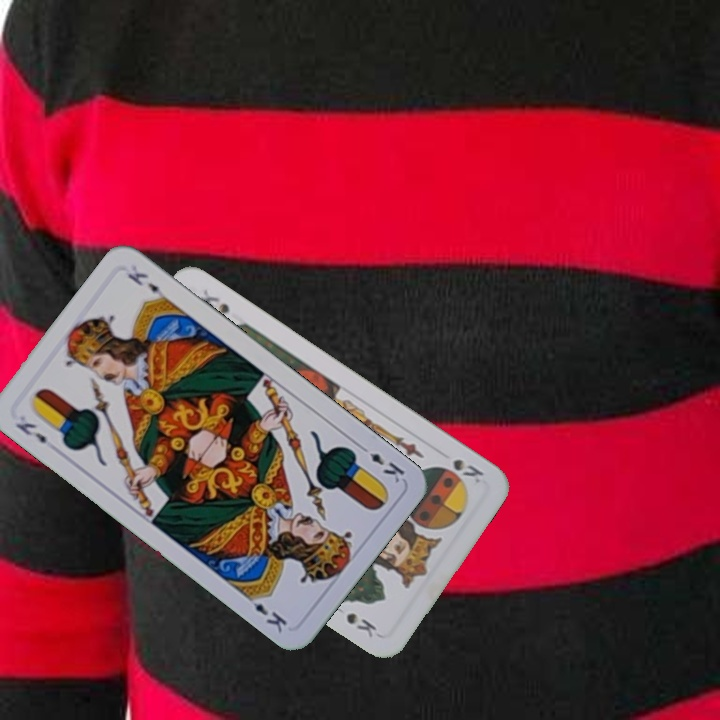EK: (355, 440, 407, 486), (11, 418, 50, 447)
SK: (448, 455, 487, 486)
